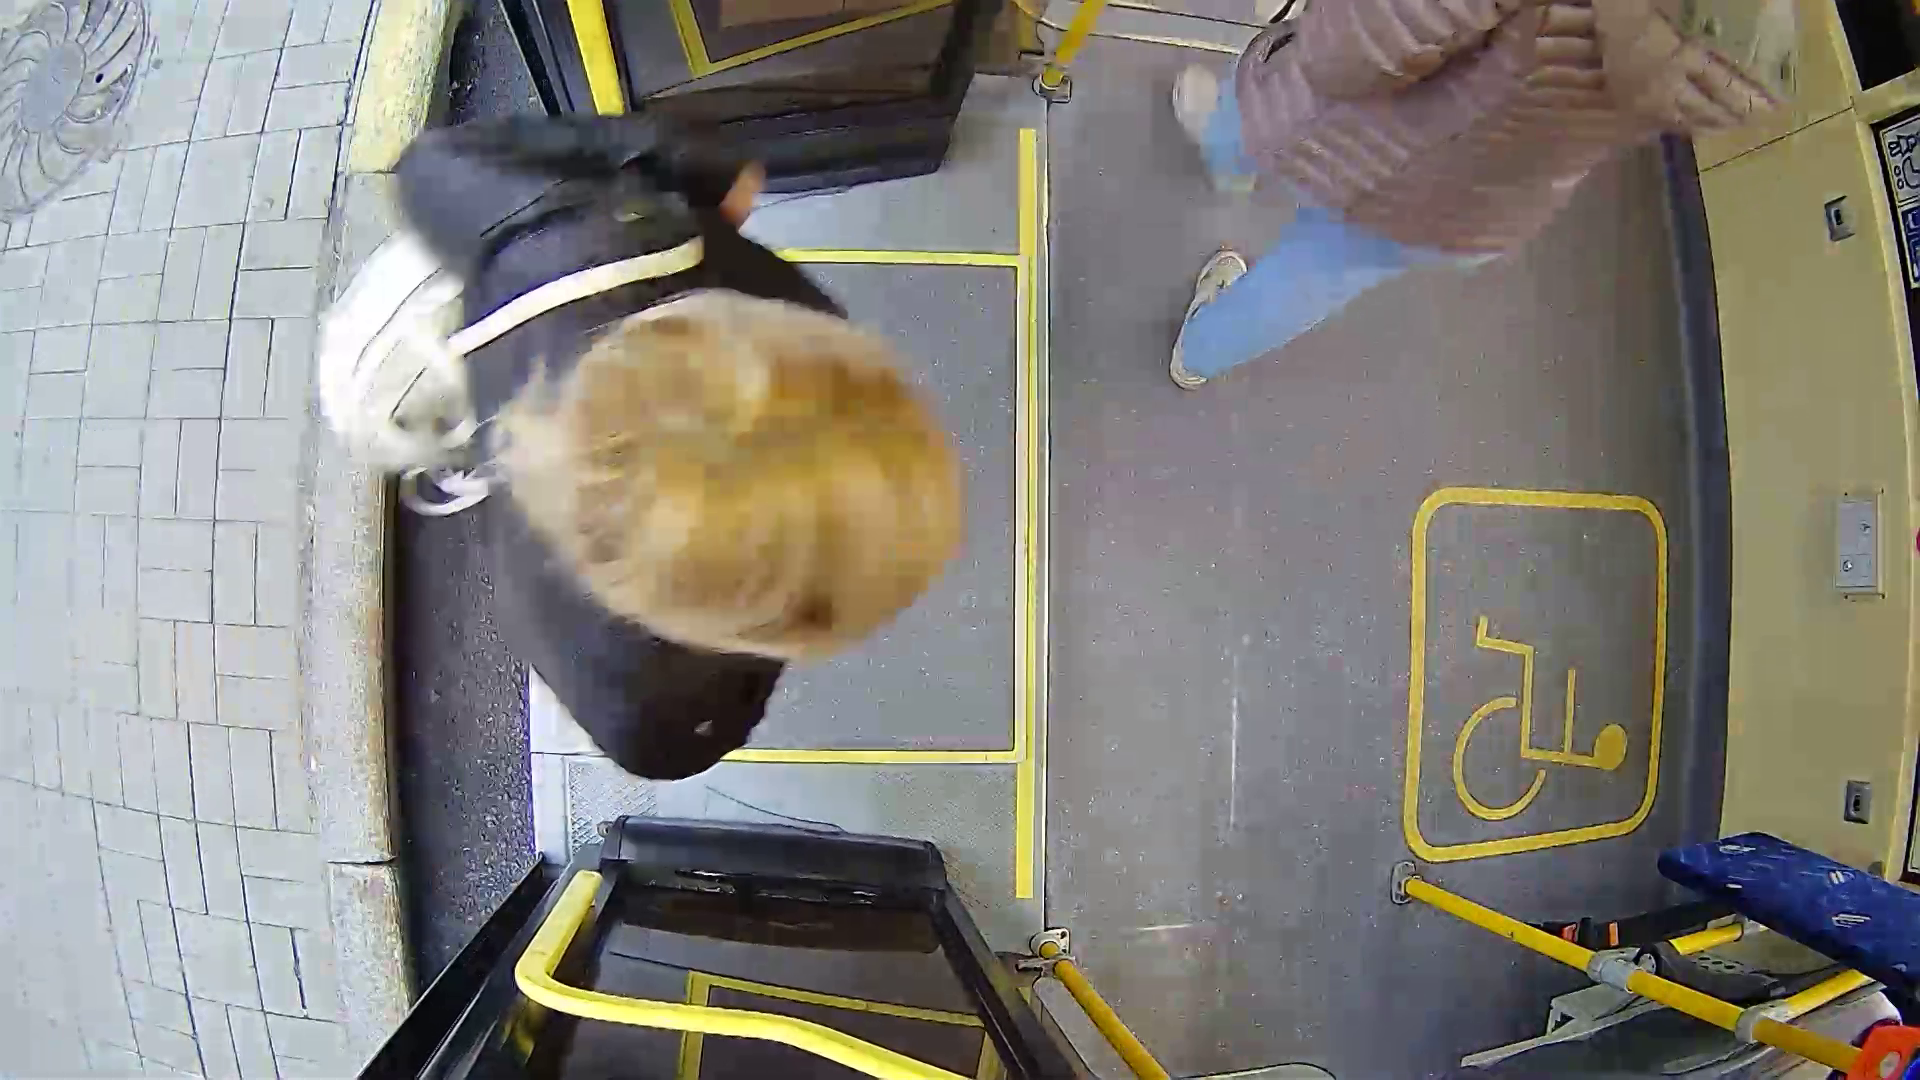person: (339, 137, 1015, 794)
